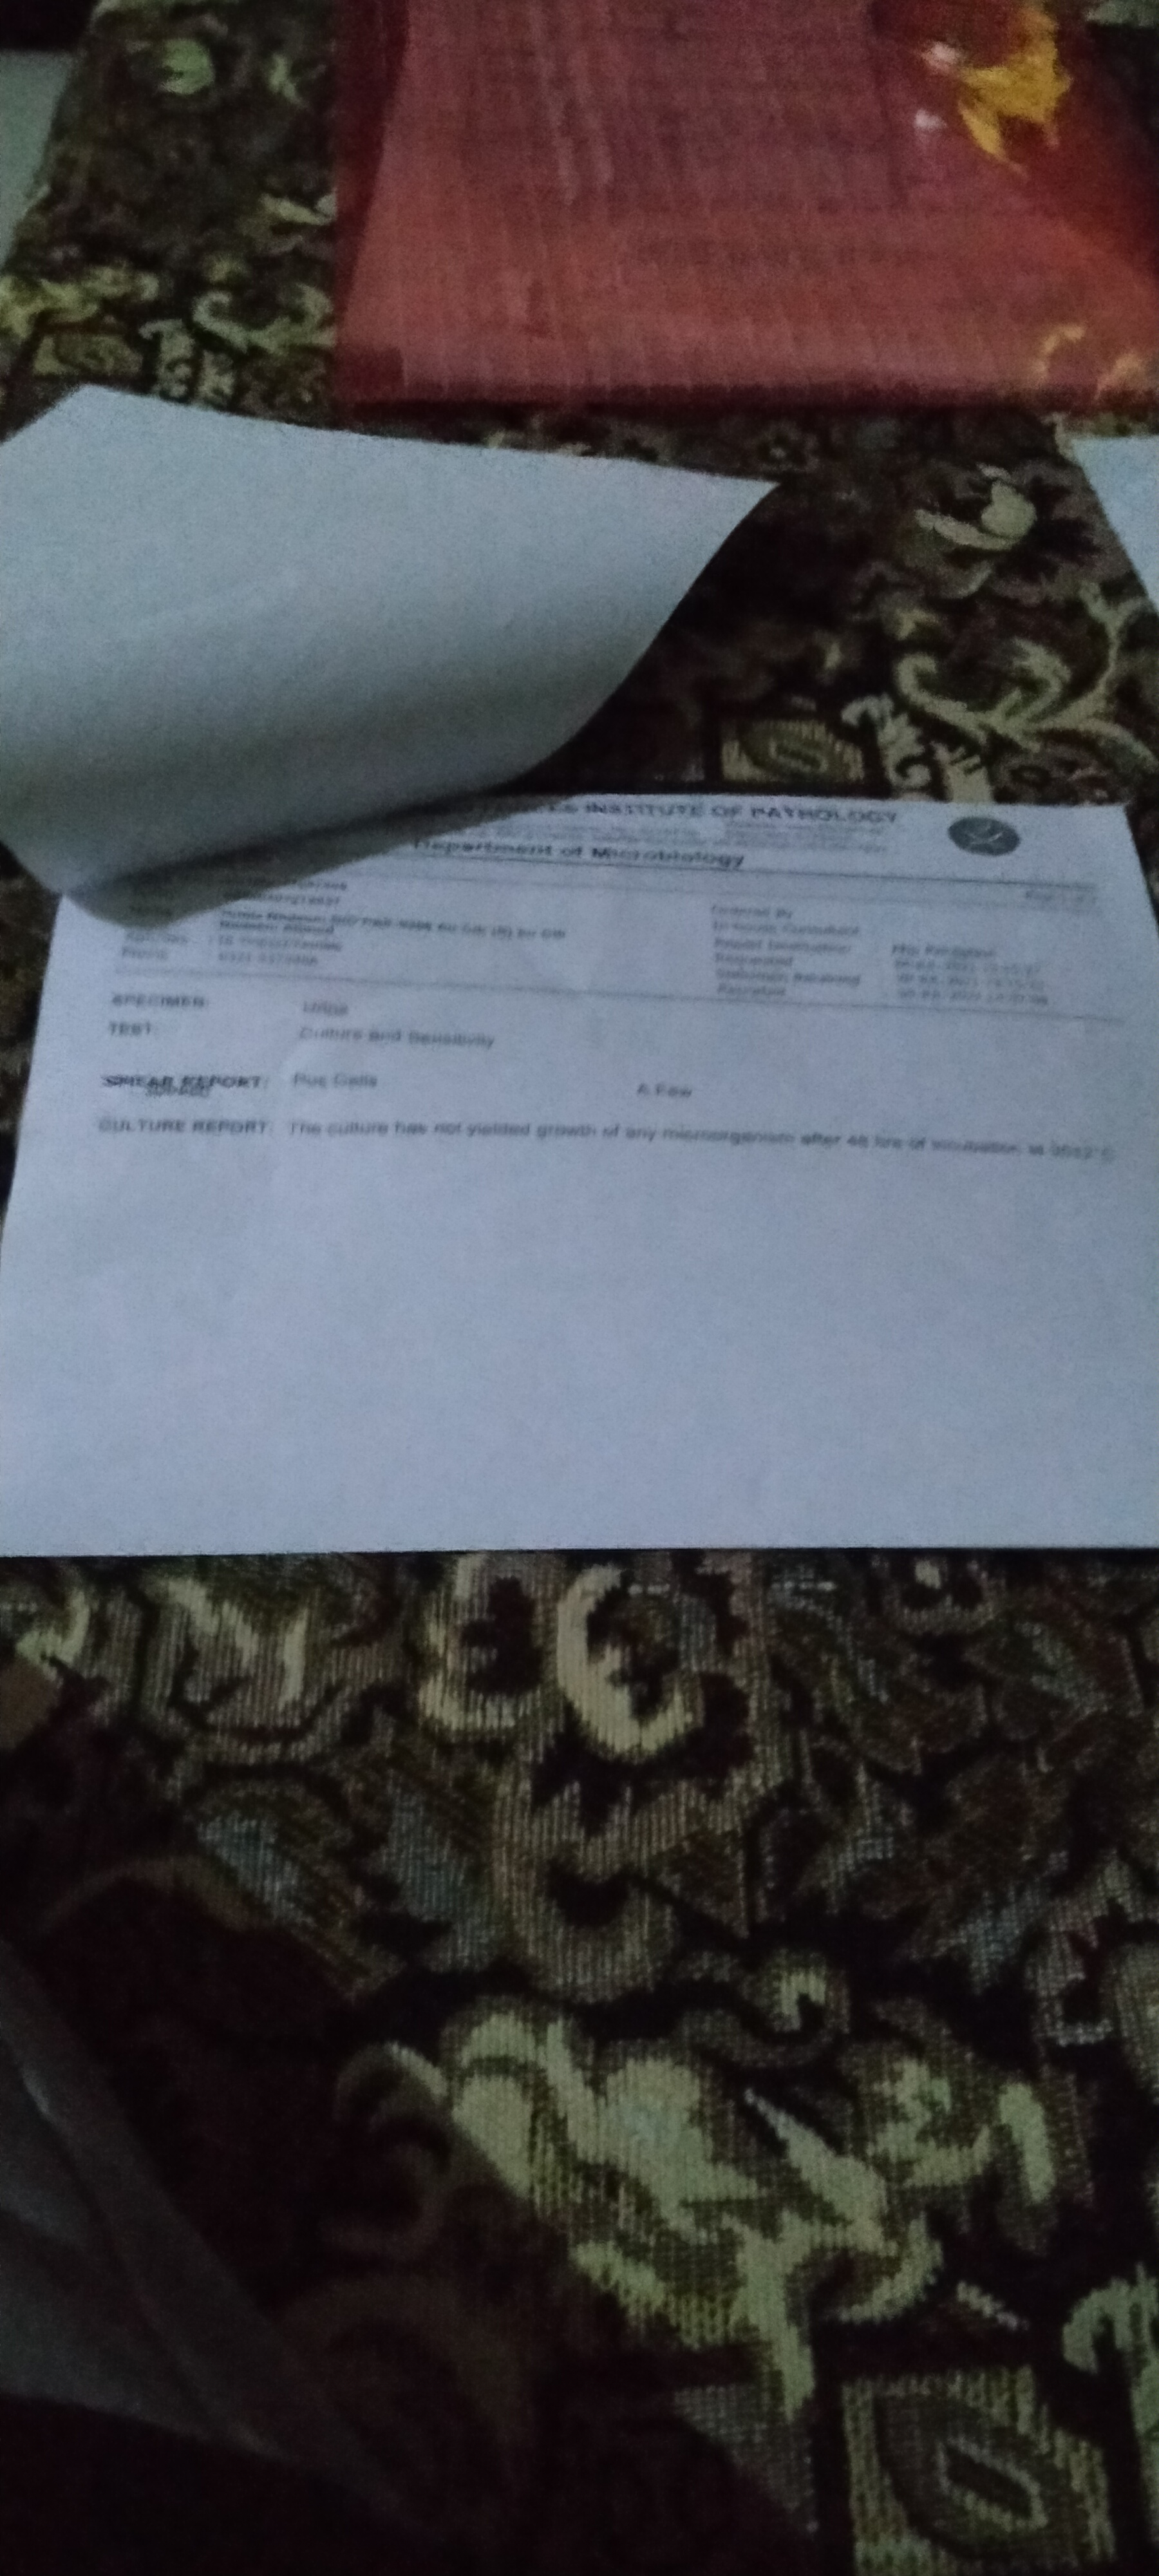report: (72, 969, 1159, 1188)
